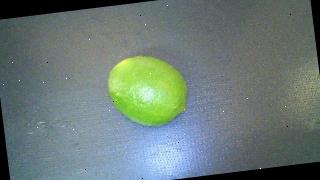EXPORTACION: (105, 50, 191, 131)
